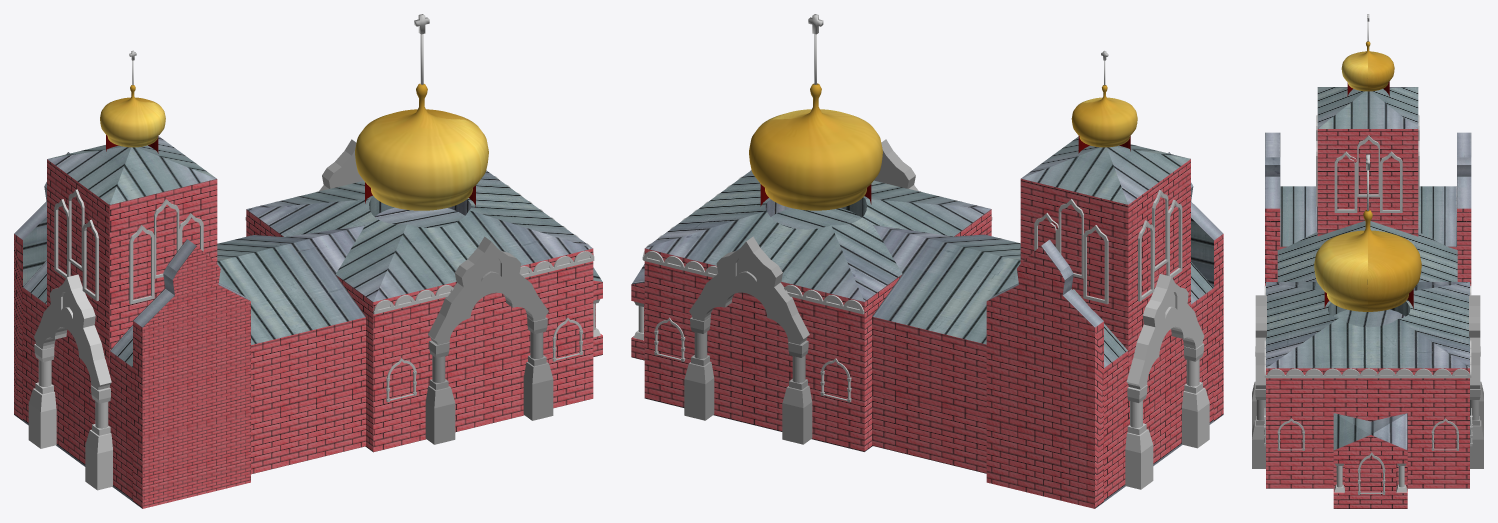
The model's file is prayer.obj.
3 renders of one model, left to right at view 1: azimuth 30°, elevation 25°; view 2: azimuth 150°, elevation 25°; view 3: azimuth 270°, elevation 25°, orthographic. The views are drawn at different scales.
Parts seen in each view (by area): view 1: Cube, Circle_Circle.001, Plane.001, Plane.002, Circle.035_Circle.037, Circle.036_Circle.022, Circle.037_Circle.023, Plane.000, Cube.001_Cube.005; view 2: Cube, Circle_Circle.001, Plane.000, Plane.002, Circle.035_Circle.037, Circle.036_Circle.022, Circle.038, Plane.001, Cube.006_Cube.008; view 3: Cube, Circle_Circle.001, Plane.001, Plane.000, Circle.035_Circle.037, Circle.039, Cube.003_Cube.006, Circle.024_Circle.026.
Boxes of the visible parts, x1=… form: Cube: x1=14, y1=136, x2=602, y2=508; Circle_Circle.001: x1=355, y1=83, x2=488, y2=210; Plane.001: x1=425, y1=236, x2=553, y2=444; Plane.002: x1=28, y1=274, x2=112, y2=490; Circle.035_Circle.037: x1=100, y1=85, x2=165, y2=147; Circle.036_Circle.022: x1=54, y1=189, x2=98, y2=300; Circle.037_Circle.023: x1=129, y1=199, x2=203, y2=304; Plane.000: x1=319, y1=139, x2=363, y2=191; Cube.001_Cube.005: x1=373, y1=258, x2=594, y2=314; Cube: x1=631, y1=136, x2=1223, y2=508; Circle_Circle.001: x1=749, y1=83, x2=882, y2=210; Plane.000: x1=684, y1=236, x2=812, y2=444; Plane.002: x1=1125, y1=274, x2=1209, y2=489; Circle.035_Circle.037: x1=1071, y1=85, x2=1137, y2=147; Circle.036_Circle.022: x1=1138, y1=190, x2=1182, y2=301; Circle.038: x1=1034, y1=199, x2=1108, y2=304; Plane.001: x1=874, y1=139, x2=918, y2=191; Cube.006_Cube.008: x1=643, y1=257, x2=864, y2=314; Cube: x1=1265, y1=87, x2=1471, y2=508; Circle_Circle.001: x1=1314, y1=210, x2=1421, y2=311; Plane.001: x1=1252, y1=295, x2=1266, y2=468; Plane.000: x1=1469, y1=295, x2=1483, y2=468; Circle.035_Circle.037: x1=1341, y1=41, x2=1394, y2=91; Circle.039: x1=1334, y1=135, x2=1402, y2=212; Cube.003_Cube.006: x1=1266, y1=375, x2=1470, y2=378; Circle.024_Circle.026: x1=1358, y1=452, x2=1385, y2=494.
Size of the model in its own units: 11.76 by 8.57 by 5.65.
